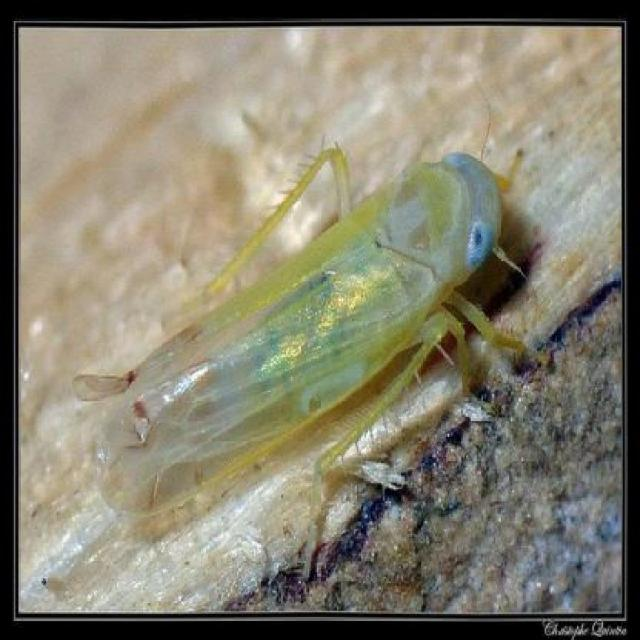green-leafhopper: (99, 143, 512, 520)
